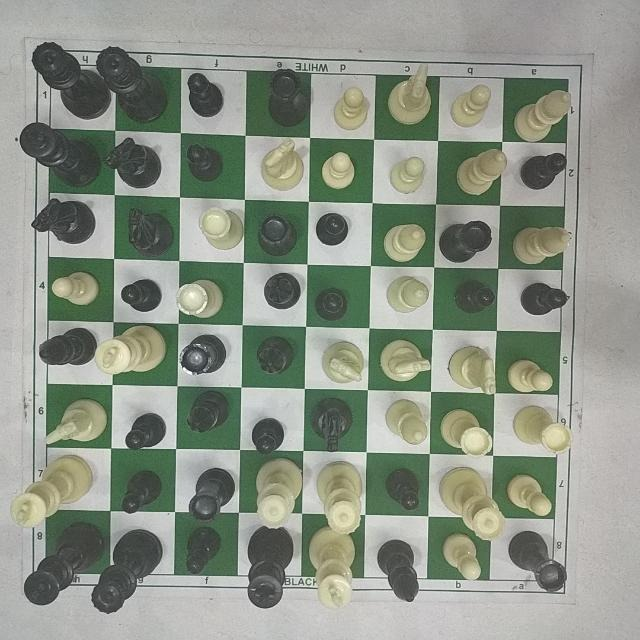black-bishop: (376, 537, 430, 606), (182, 387, 233, 436), (256, 332, 300, 378)
black-king: (21, 527, 101, 607), (93, 529, 171, 611), (16, 123, 100, 188), (244, 528, 296, 608)
black-knight: (29, 195, 99, 247), (103, 132, 164, 189), (123, 206, 177, 259), (309, 396, 357, 455), (196, 205, 246, 251)
black-pawn: (119, 464, 164, 519), (182, 525, 226, 581), (119, 409, 169, 455), (519, 149, 570, 194), (382, 463, 424, 515), (516, 280, 570, 319), (246, 412, 290, 459), (185, 72, 228, 120), (451, 276, 499, 318), (119, 276, 163, 315), (186, 141, 225, 182), (314, 208, 352, 250), (313, 284, 349, 324)
black-queen: (29, 40, 105, 121), (96, 43, 169, 125), (310, 528, 363, 608)
black-rook: (505, 529, 570, 594), (186, 462, 241, 523), (265, 64, 313, 129), (438, 215, 494, 267), (175, 330, 226, 375), (256, 209, 300, 257), (261, 267, 301, 316)
white-bishop: (512, 86, 574, 146), (456, 146, 510, 199), (510, 222, 570, 266), (382, 398, 432, 448), (379, 220, 430, 269), (382, 275, 434, 317)
white-king: (12, 453, 96, 530), (96, 325, 168, 378)
white-knight: (39, 396, 109, 452), (444, 340, 498, 398), (386, 62, 433, 127), (380, 333, 430, 389), (261, 136, 305, 194), (318, 338, 367, 386)
white-pawn: (35, 325, 94, 373), (509, 471, 561, 519), (439, 532, 486, 584), (506, 350, 556, 398), (49, 268, 101, 310), (450, 81, 492, 131), (331, 86, 371, 135), (318, 151, 360, 193), (388, 155, 430, 195)
white-queen: (438, 464, 509, 542), (313, 461, 371, 536), (252, 457, 301, 529)
white-rook: (509, 405, 578, 457), (438, 407, 496, 459), (173, 275, 228, 321)
